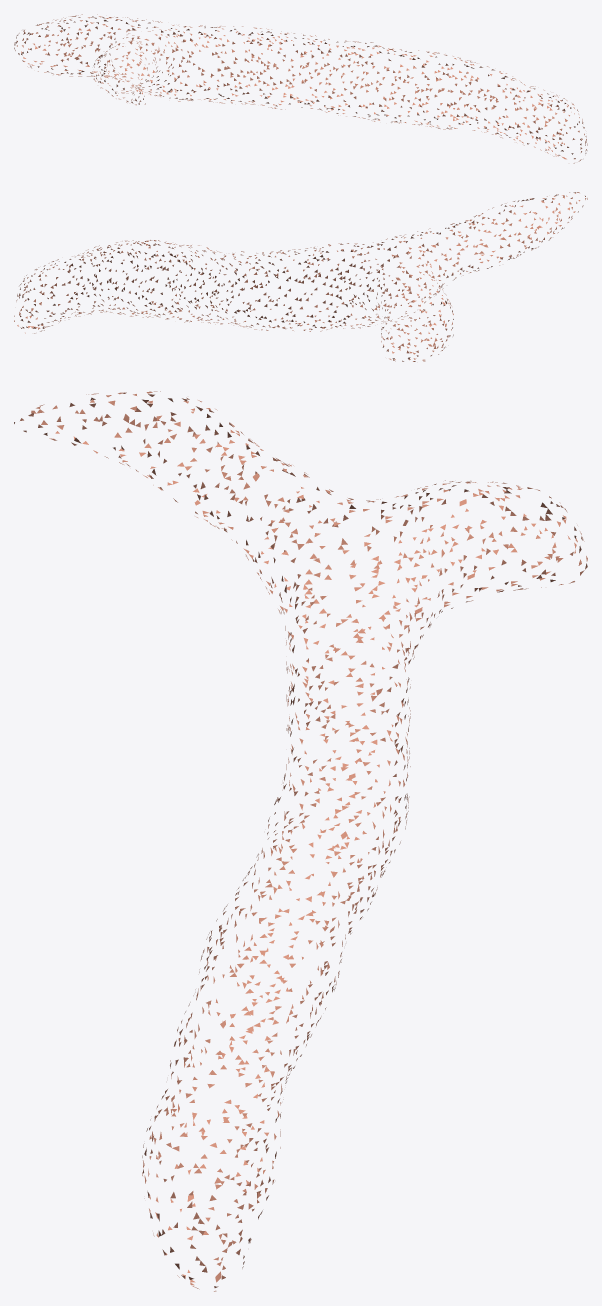
Rendered from morph_003.glb.
3 views of the same model, one above another, from view 1: azimuth 30°, elevation 25°; view 2: azimuth 150°, elevation 25°; view 3: azimuth 270°, elevation 25° (orthographic). The views are drawn at different scales.
Size of the model in its own units: 114 by 50.02 by 58.17.
